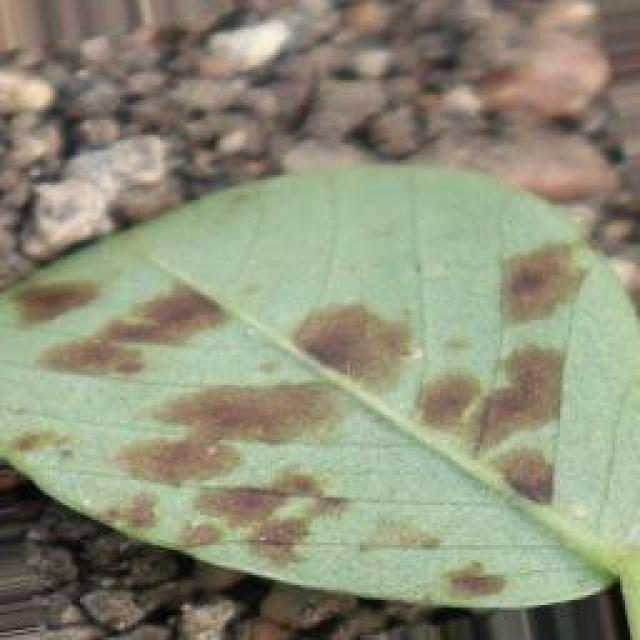Whitefly: (5, 214, 618, 628)
